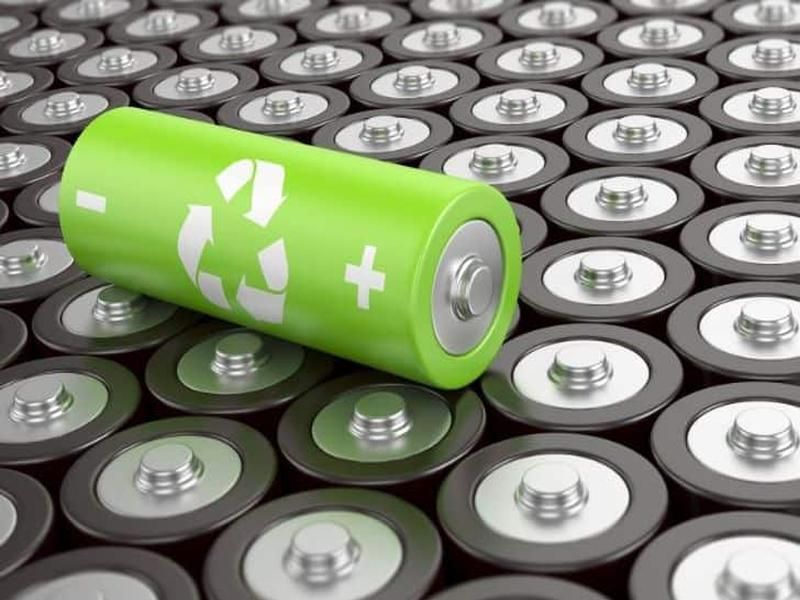battery: (54, 103, 526, 399)
